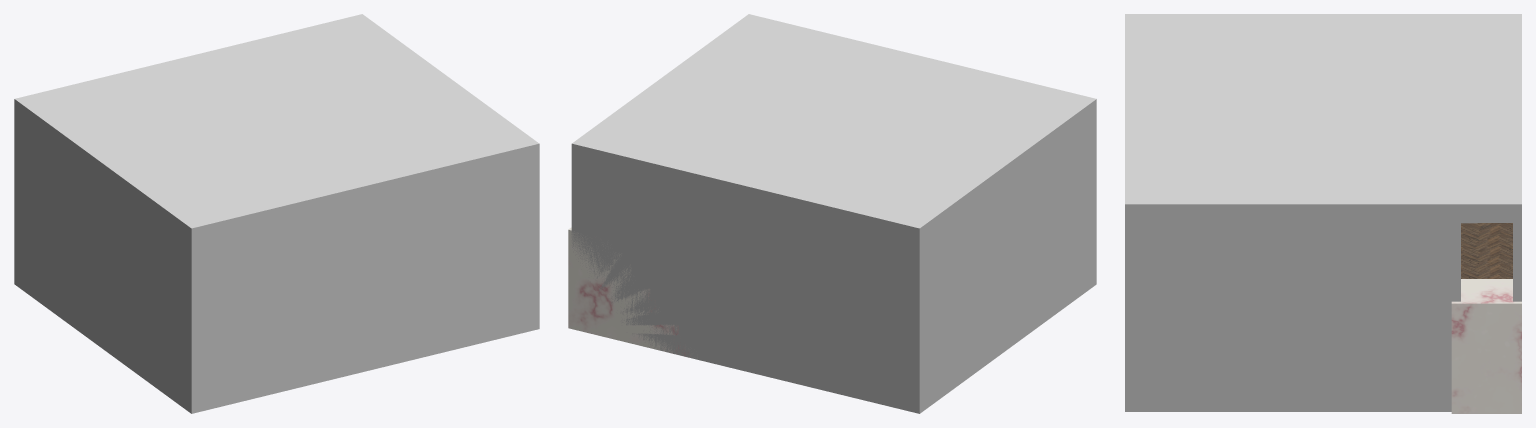
Rendered from BasementNew.fbx.
3 renders of one model, left to right at view 1: azimuth 30°, elevation 25°; view 2: azimuth 150°, elevation 25°; view 3: azimuth 270°, elevation 25°, orthographic. The views are drawn at different scales.
Parts seen in each view (by area): view 1: BasementWalls, BasementRoof, BasementWalls.001; view 2: BasementWalls, BasementRoof, BasementWalls.001, Stair; view 3: BasementRoof, BasementWalls, Stair, BasementFloor.
Part boxes in pixels (x1,y1,x2,y2): BasementWalls: (191,143,539,413); BasementRoof: (15,14,538,228); BasementWalls.001: (14,99,191,413); BasementWalls: (571,143,919,413); BasementRoof: (572,14,1096,228); BasementWalls.001: (919,99,1096,413); Stair: (568,227,697,357); BasementRoof: (1125,14,1521,204); BasementWalls: (1125,204,1521,411); Stair: (1451,279,1521,413); BasementFloor: (1461,223,1512,278).
Bounding box in the file's own units: 1264 × 637 × 1103.
